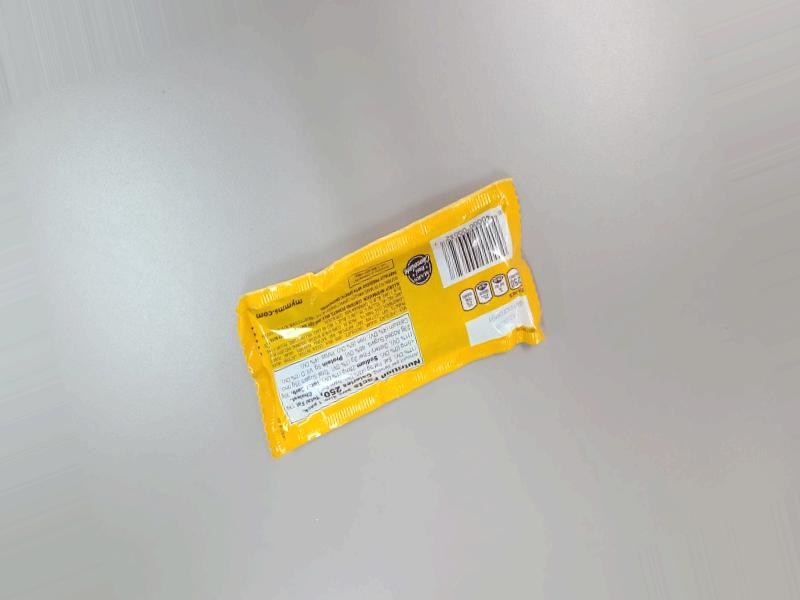m&m: (209, 180, 559, 467)
